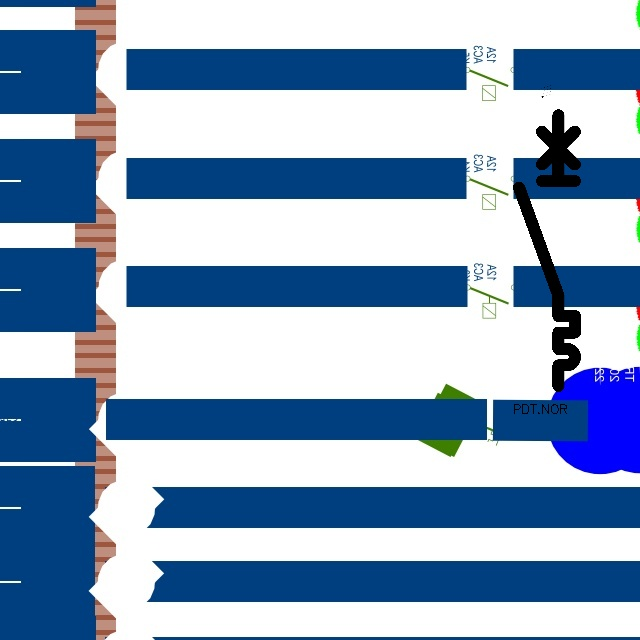interruptor_termomagnetico: (512, 108, 582, 393)
